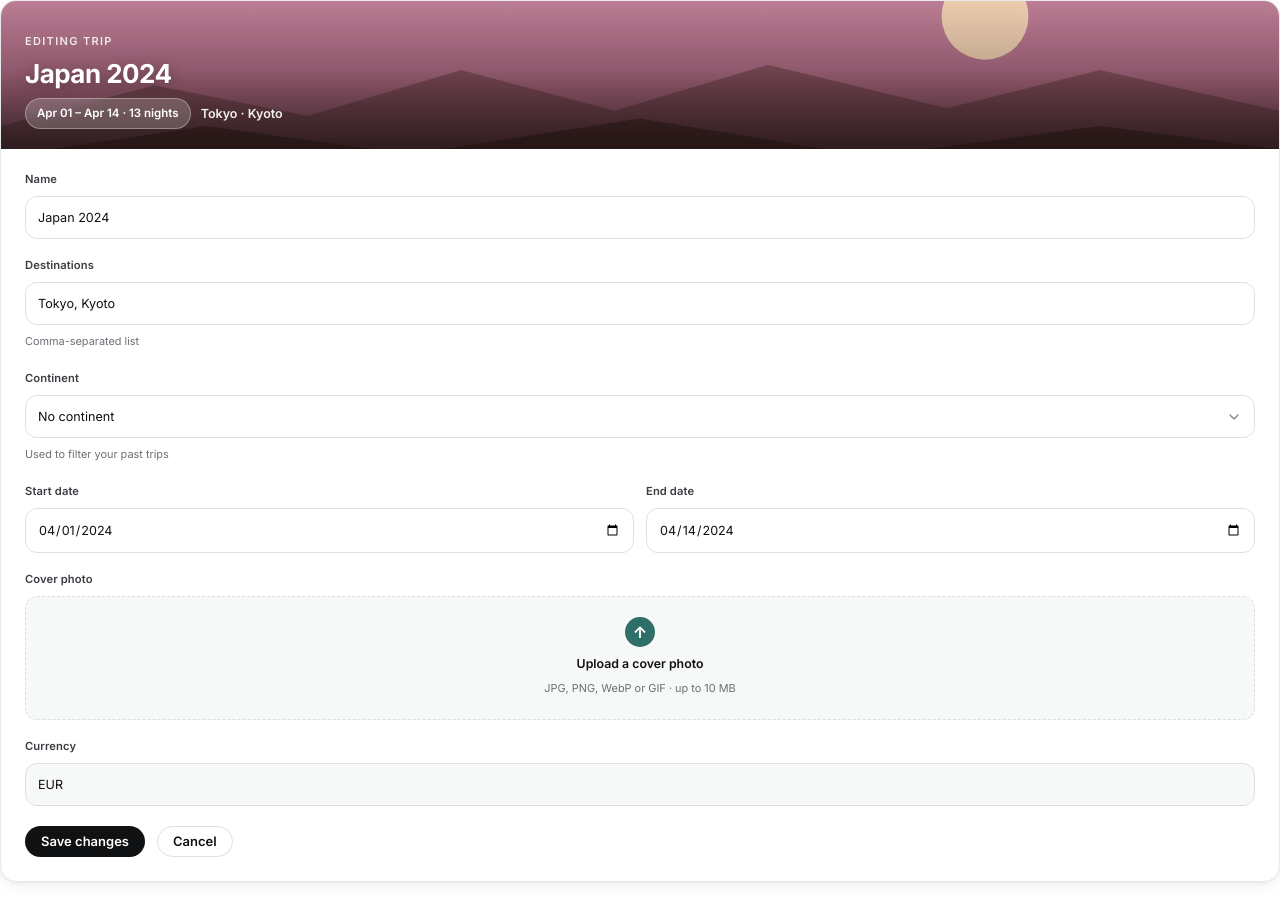
it: TripForm — edit mode › shows shrink warning when date range shrinks
Type "2024-04-07" into the date field labelled "End date" at (950, 530), box [646,508,1255,553]
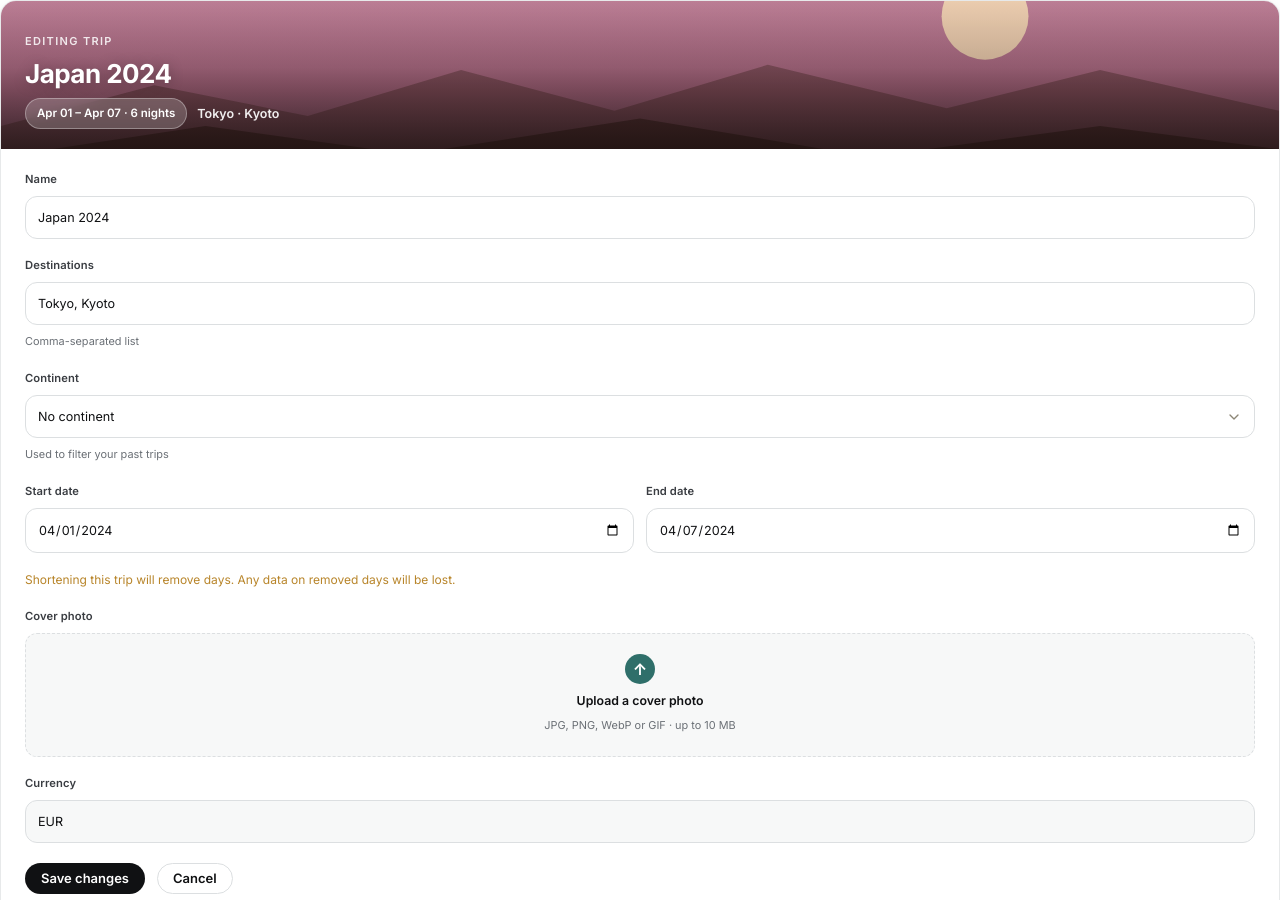
Expected: the message shows "remove days", [25,572,456,587]
